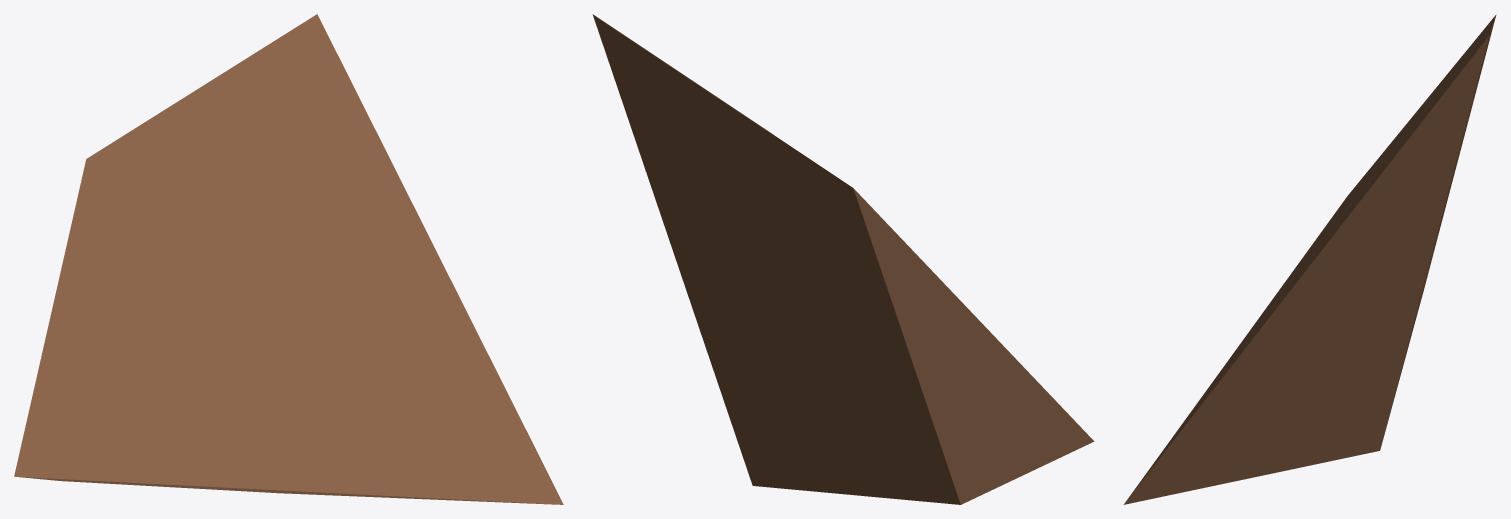
The model's file is WoodCellCube_003_cell_058.fbx.
3 renders of one model, left to right at view 1: azimuth 30°, elevation 25°; view 2: azimuth 150°, elevation 25°; view 3: azimuth 270°, elevation 25°, orthographic. The views are drawn at different scales.
Parts seen in each view (by area): view 1: WoodCellCube_003_cell_058; view 2: WoodCellCube_003_cell_058; view 3: WoodCellCube_003_cell_058.
Boxes of the visible parts, left/top/right/bottom form: WoodCellCube_003_cell_058: left=14, top=14, right=563, bottom=504; WoodCellCube_003_cell_058: left=592, top=14, right=1094, bottom=504; WoodCellCube_003_cell_058: left=1123, top=14, right=1496, bottom=504.
Size of the model in its own units: 0.0672 by 0.0919 by 0.1022.
1 material, 1 textured.
